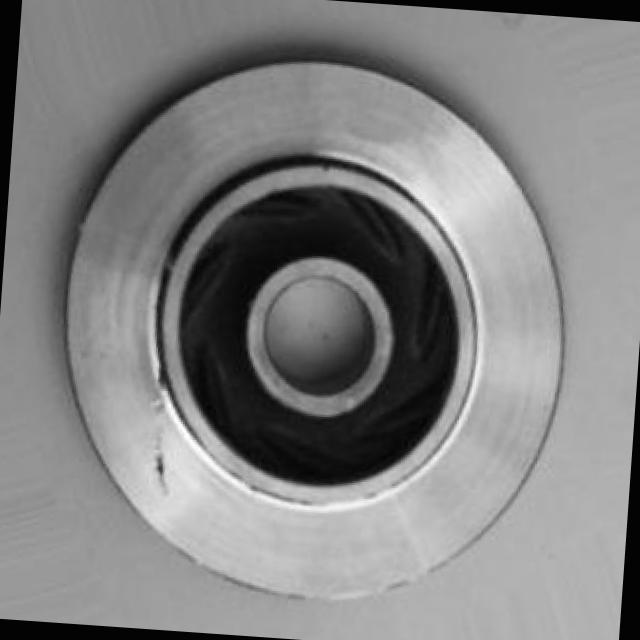Defect: (142, 438, 188, 496)
